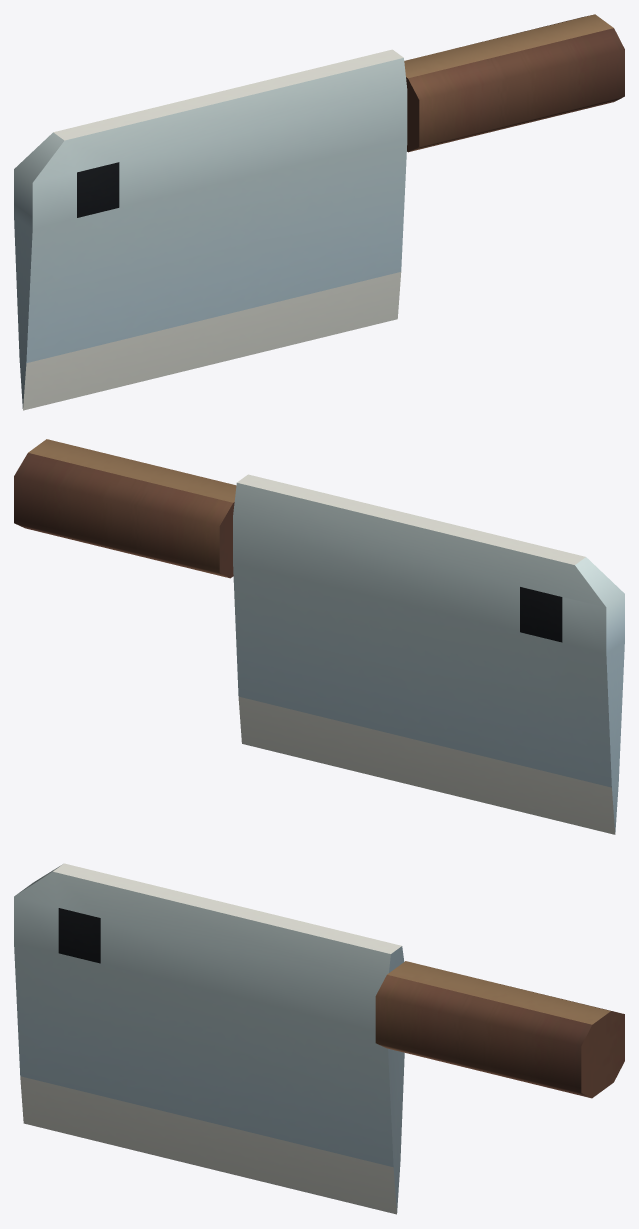
Rendered from cleaver.fbx.
3 renders of one model, top to bottom at view 1: azimuth 30°, elevation 25°; view 2: azimuth 150°, elevation 25°; view 3: azimuth 330°, elevation 25°, orthographic.
Parts seen in each view (by area): view 1: cleaver; view 2: cleaver; view 3: cleaver.
Boxes of the visible parts, x1=… form: cleaver: x1=14, y1=14, x2=624, y2=410; cleaver: x1=14, y1=439, x2=624, y2=834; cleaver: x1=14, y1=863, x2=624, y2=1214.
Size of the model in its own units: 54.98 by 24.05 by 7.24.
